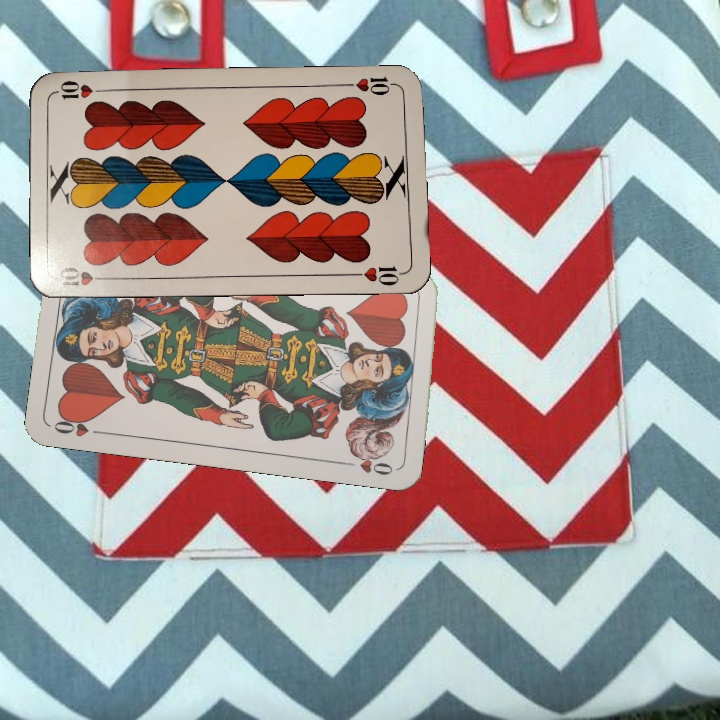H10: (55, 263, 114, 290), (342, 72, 401, 98)
HO: (50, 412, 108, 440)
